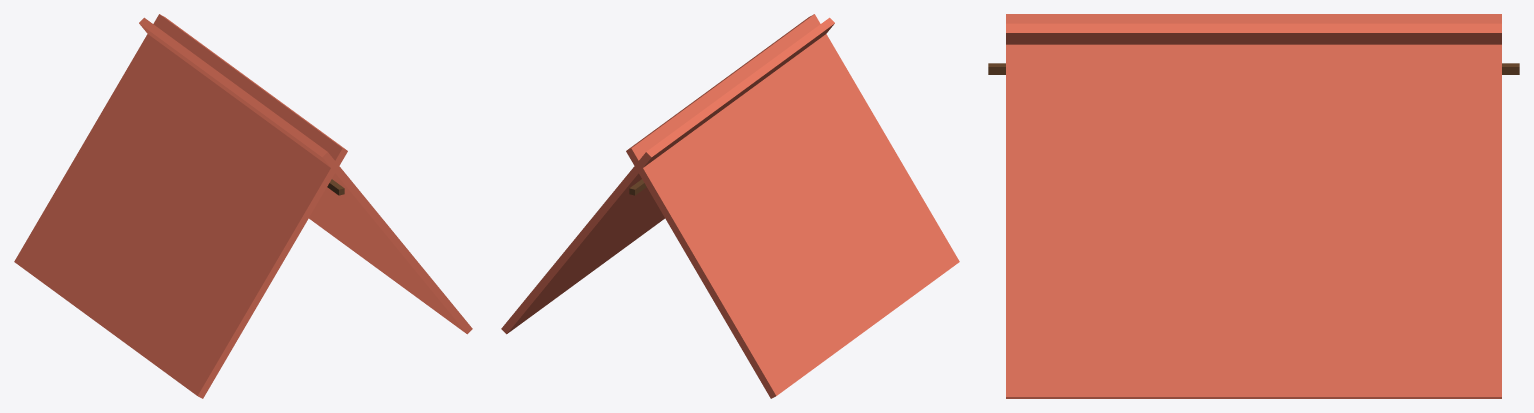
File: tent.glb
3 views of the same model, side by side, from view 1: azimuth 30°, elevation 25°; view 2: azimuth 150°, elevation 25°; view 3: azimuth 270°, elevation 25° (orthographic). The views are drawn at different scales.
Parts seen in each view (by area): view 1: tent; view 2: tent; view 3: tent.
Part boxes in pixels (x1=…): tent: x1=14, y1=14, x2=472, y2=398; tent: x1=501, y1=14, x2=959, y2=398; tent: x1=988, y1=14, x2=1519, y2=398.
Size of the model in its own units: 2.43 by 1.83 by 3.
